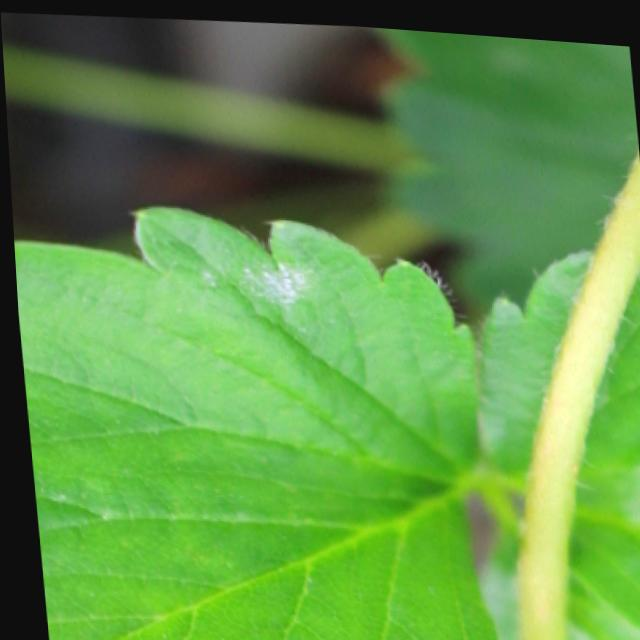Powdery Mildew Leaf: (11, 200, 490, 640)
